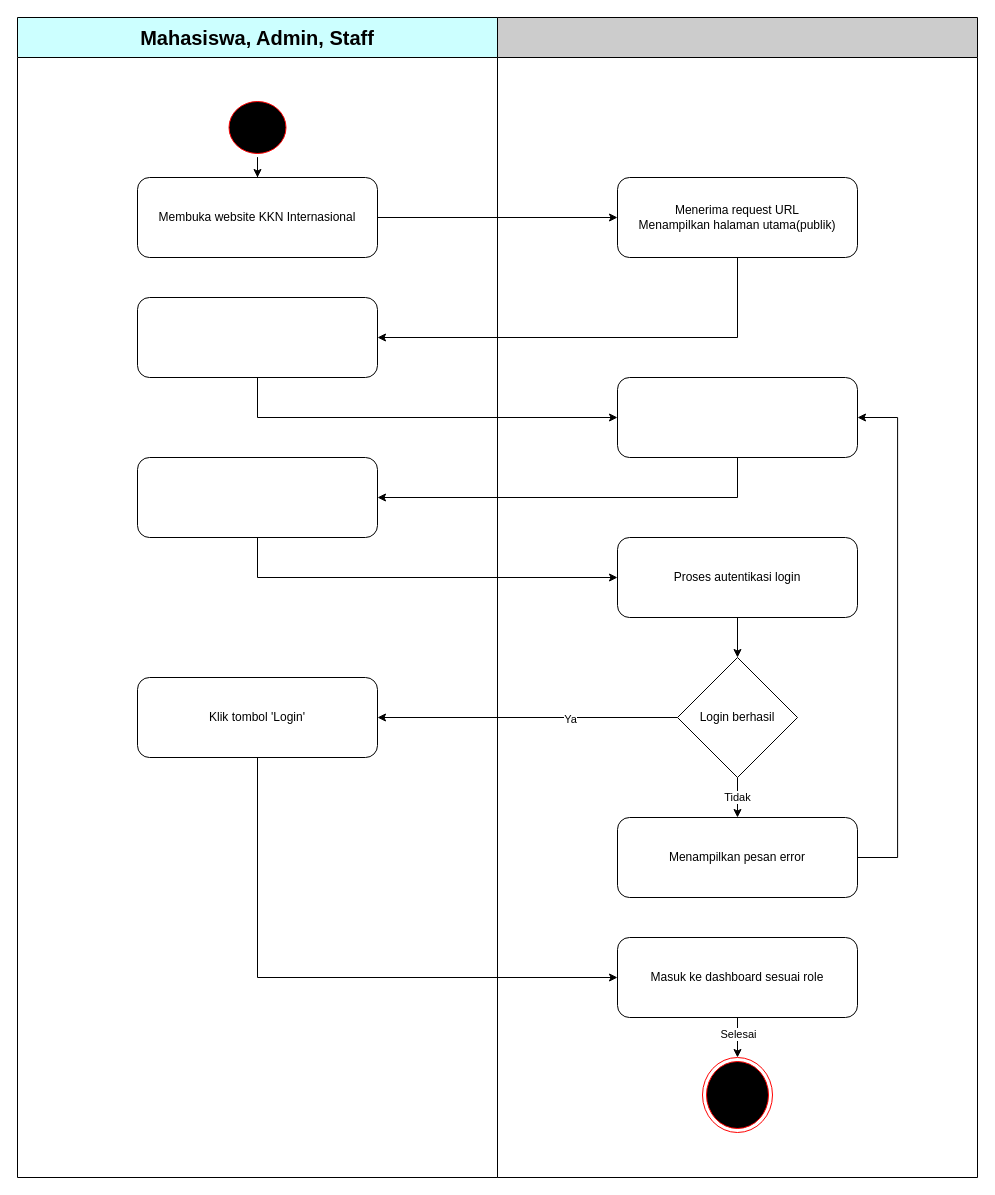
The diagram is 995 pixels wide and 1195 high, and some of its shapes have lost their labels. Here are the shapes that lost their labels. From the top down, the box of each, then its label:
(136, 296, 378, 378): Klik tombol login
(616, 376, 858, 458): Menampilkan halaman login
(136, 456, 378, 538): Mengisi Username, Password dan Verifikasi Keamanan
(496, 16, 978, 1178): Sistem KKN Internasional
